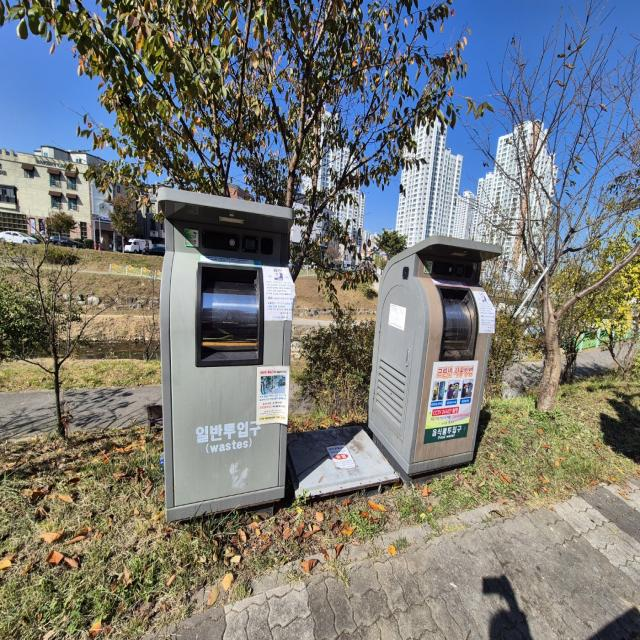CleanNet: (151, 183, 288, 515), (374, 236, 500, 468)
